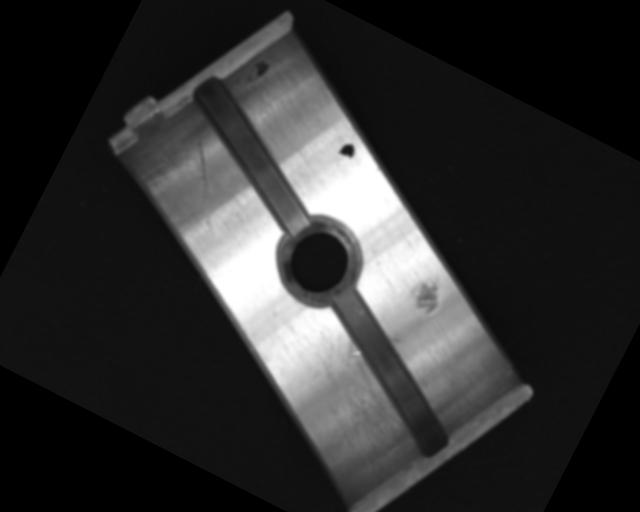blot: (246, 55, 270, 85), (335, 139, 358, 165)
bruise: (408, 270, 450, 317)
gap: (291, 282, 491, 461), (157, 71, 348, 239)
hole: (264, 203, 374, 316)
nick: (161, 134, 248, 234)
scratch: (282, 313, 438, 467)
